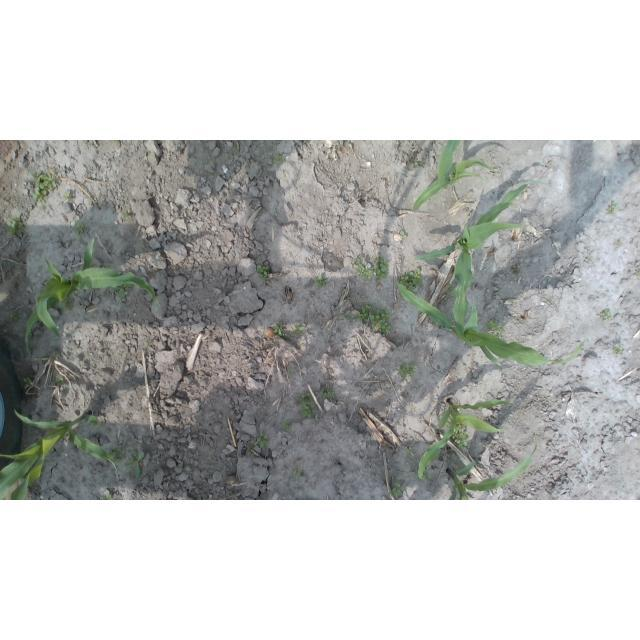Maize: (413, 180, 545, 345), (25, 238, 162, 358), (395, 281, 585, 367), (0, 408, 112, 500), (419, 398, 516, 477), (444, 432, 539, 500), (414, 141, 499, 212)
Weeds: (355, 305, 393, 334), (31, 171, 57, 206), (124, 452, 146, 479), (348, 258, 372, 282), (400, 269, 424, 292), (451, 420, 470, 449), (299, 393, 317, 420), (6, 214, 25, 238), (372, 254, 388, 281), (484, 318, 504, 338), (112, 283, 134, 299), (398, 361, 416, 379), (320, 384, 337, 401), (106, 446, 123, 463), (74, 219, 88, 239), (255, 433, 270, 449), (59, 296, 74, 312), (389, 483, 406, 497), (599, 309, 613, 324), (255, 264, 269, 278), (415, 468, 431, 480), (282, 419, 295, 431), (607, 203, 620, 215), (121, 208, 133, 220), (272, 153, 284, 165), (316, 276, 327, 289), (273, 323, 283, 337), (340, 315, 357, 323), (613, 343, 624, 355), (98, 493, 116, 500), (294, 325, 304, 336), (293, 467, 303, 478), (55, 375, 66, 385), (446, 283, 455, 295), (23, 378, 34, 387), (64, 191, 73, 201), (405, 444, 413, 454), (10, 311, 18, 321), (401, 231, 408, 240), (246, 445, 254, 452), (282, 333, 291, 339), (411, 163, 420, 169), (29, 344, 38, 350), (447, 415, 452, 425), (617, 241, 624, 247), (146, 339, 152, 345), (289, 371, 296, 376), (109, 141, 115, 144), (637, 272, 640, 277)
